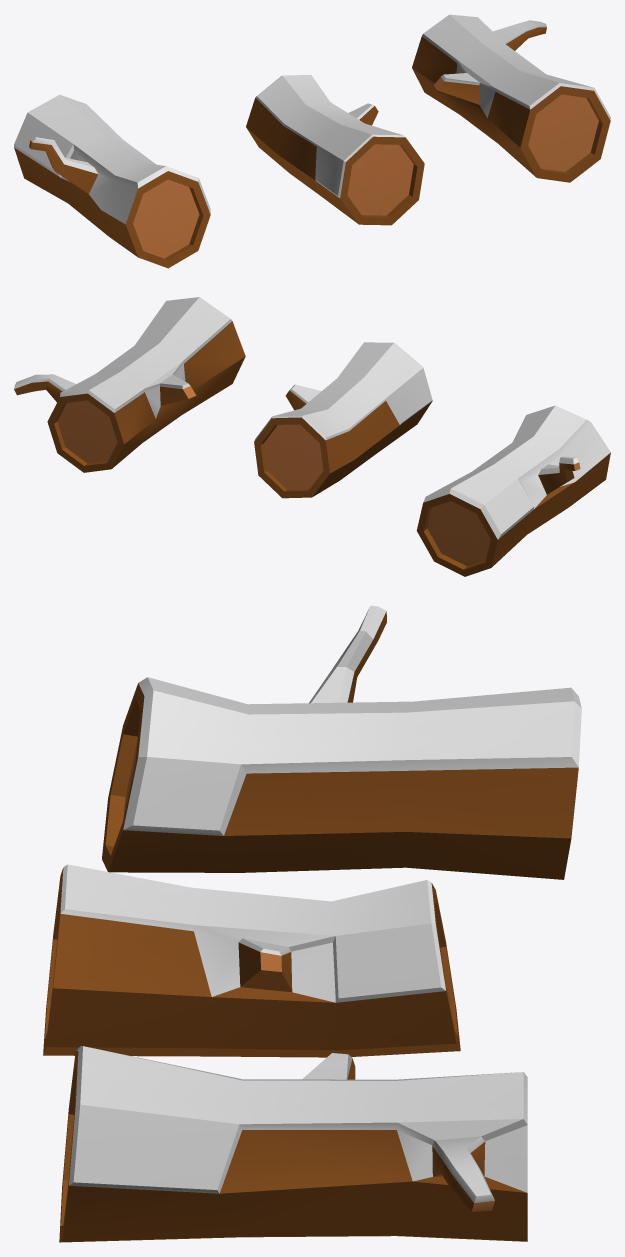
The model's file is Branch.glb.
3 views of the same model, one above another, from view 1: azimuth 30°, elevation 25°; view 2: azimuth 150°, elevation 25°; view 3: azimuth 270°, elevation 25° (orthographic). The views are drawn at different scales.
Visible parts, largest first — view 1: Branch3, Branch1, Branch2; view 2: Branch3, Branch1, Branch2; view 3: Branch1, Branch3, Branch2.
Boxes of the visible parts, x1,y1,x2,y2 form: Branch3: (412, 14, 610, 182); Branch1: (14, 94, 210, 268); Branch2: (246, 74, 424, 225); Branch3: (14, 297, 245, 472); Branch1: (416, 405, 610, 576); Branch2: (254, 342, 432, 498); Branch1: (102, 605, 581, 879); Branch3: (59, 1046, 527, 1242); Branch2: (43, 864, 460, 1057).
Bounding box in the file's own units: 2.93 × 0.5187 × 1.27.
Materials: 1 (1 with a texture image).
